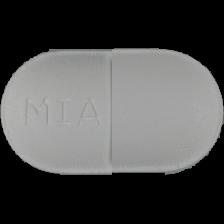0603-2540: (0, 0, 224, 224)
